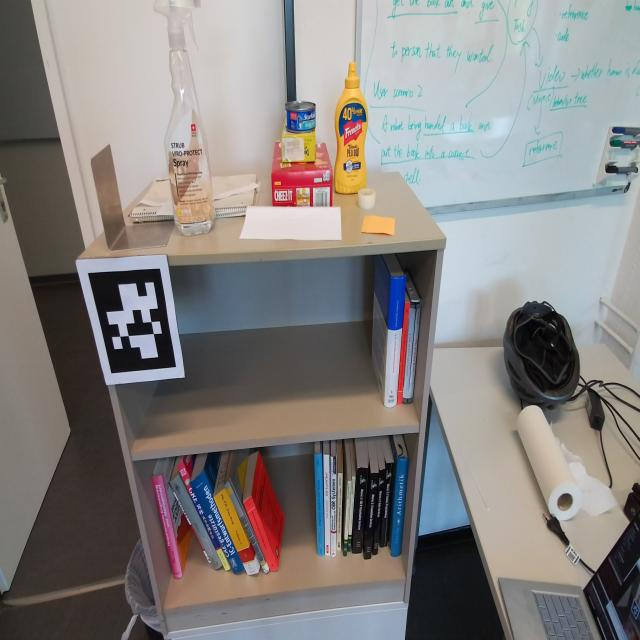Book Spine: (176, 461, 231, 571), (190, 469, 244, 574), (169, 474, 222, 570), (224, 480, 269, 574), (213, 488, 259, 575), (168, 482, 211, 564), (152, 475, 183, 580), (384, 275, 406, 408), (243, 497, 278, 572), (391, 456, 409, 557), (402, 304, 416, 403), (352, 468, 368, 554), (397, 302, 410, 404), (408, 303, 421, 404), (364, 473, 378, 559), (380, 463, 394, 548), (314, 452, 325, 556), (373, 469, 386, 556), (323, 454, 330, 556), (347, 476, 356, 552), (331, 455, 337, 557), (344, 481, 352, 557), (337, 473, 343, 551)
